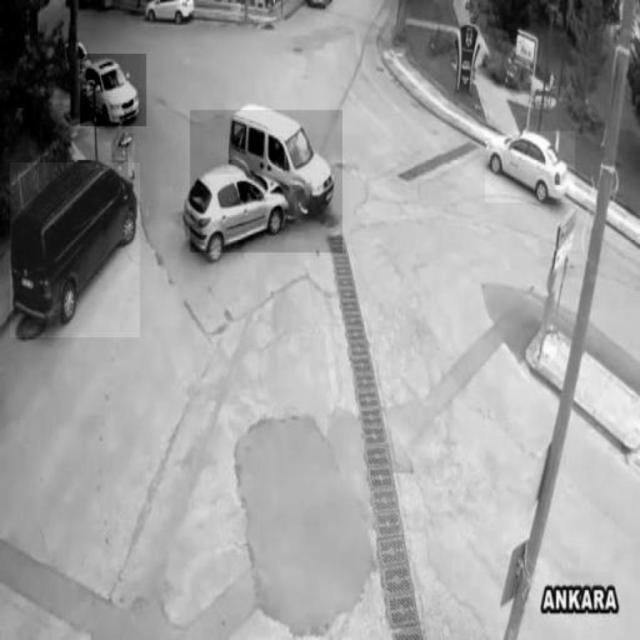accident: (189, 111, 343, 253)
vehicle: (10, 163, 140, 338), (485, 132, 575, 203), (80, 55, 146, 127), (140, 1, 197, 26)
